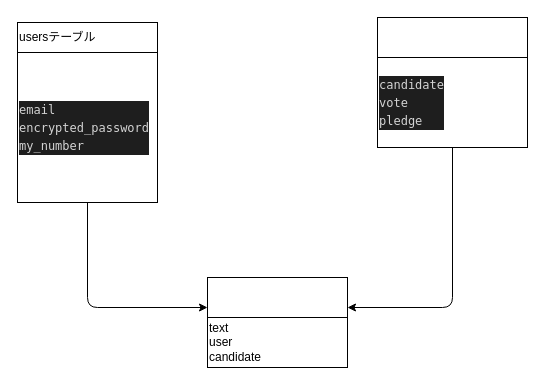
Image size: 545x385. Some labels were removed from this diagram. The shapes that lost their labels are listed below. From the top down, each one's centre as x and y in pixels, then its label:
(x=452, y=37): candidatesテーブル
(x=277, y=297): commentsテーブル
